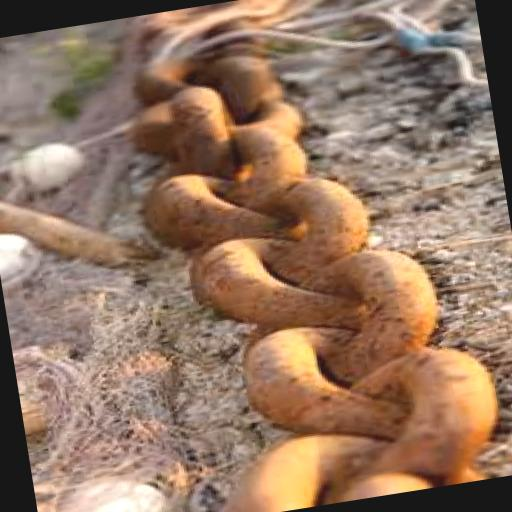segmentation: (0, 212, 201, 512), (236, 236, 432, 512), (144, 163, 345, 373), (144, 65, 324, 256), (316, 345, 494, 501), (280, 173, 368, 261)
